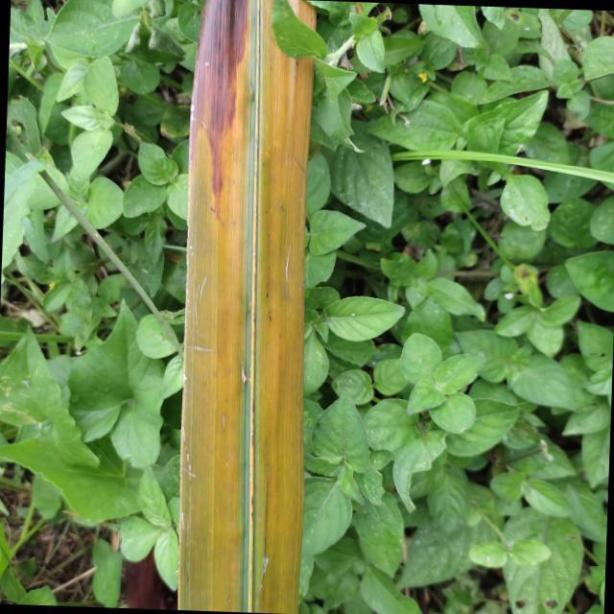Megnesium: (179, 0, 315, 614)
